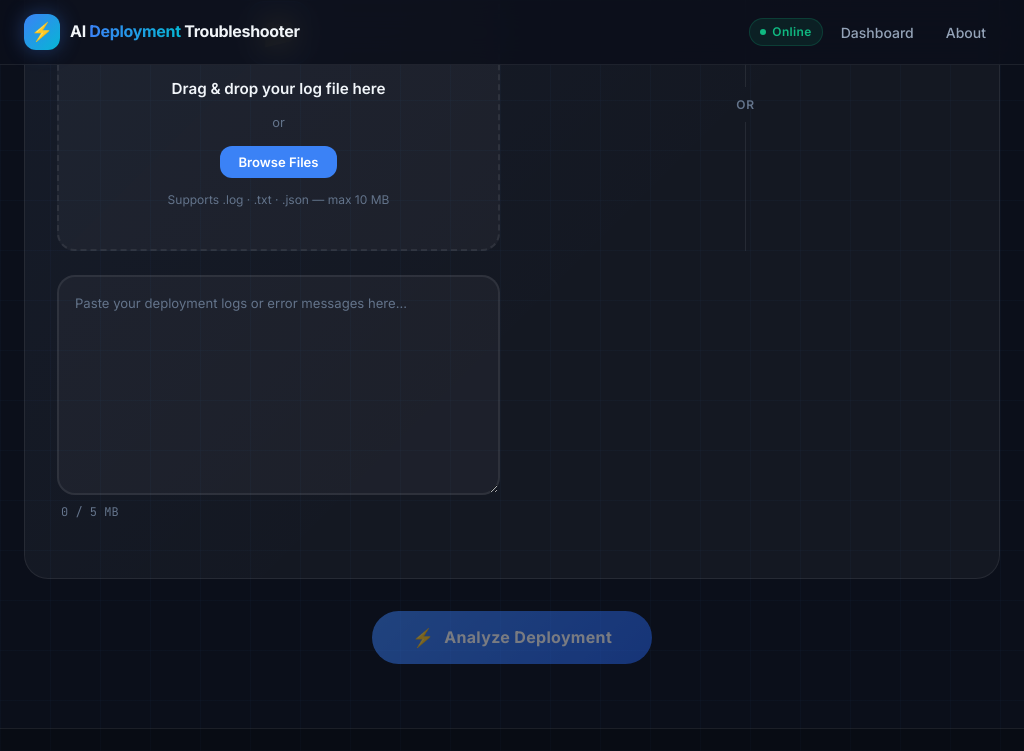
App - successful result › renders the results section heading
(page scrolled)
Type "test log" into the text box named "deployment log content" at coordinates (278, 385), box [57,275,500,495]
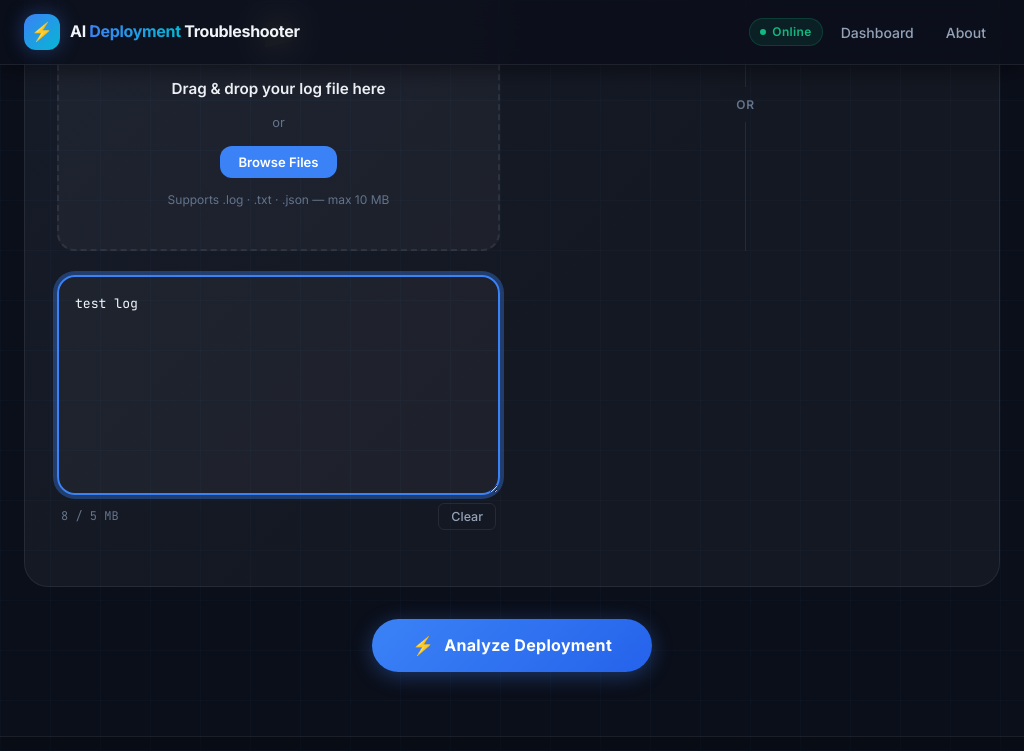
Click the button "⚡ Analyze Deployment" at coordinates (512, 645), box [372,619,652,672]
(page scrolled)
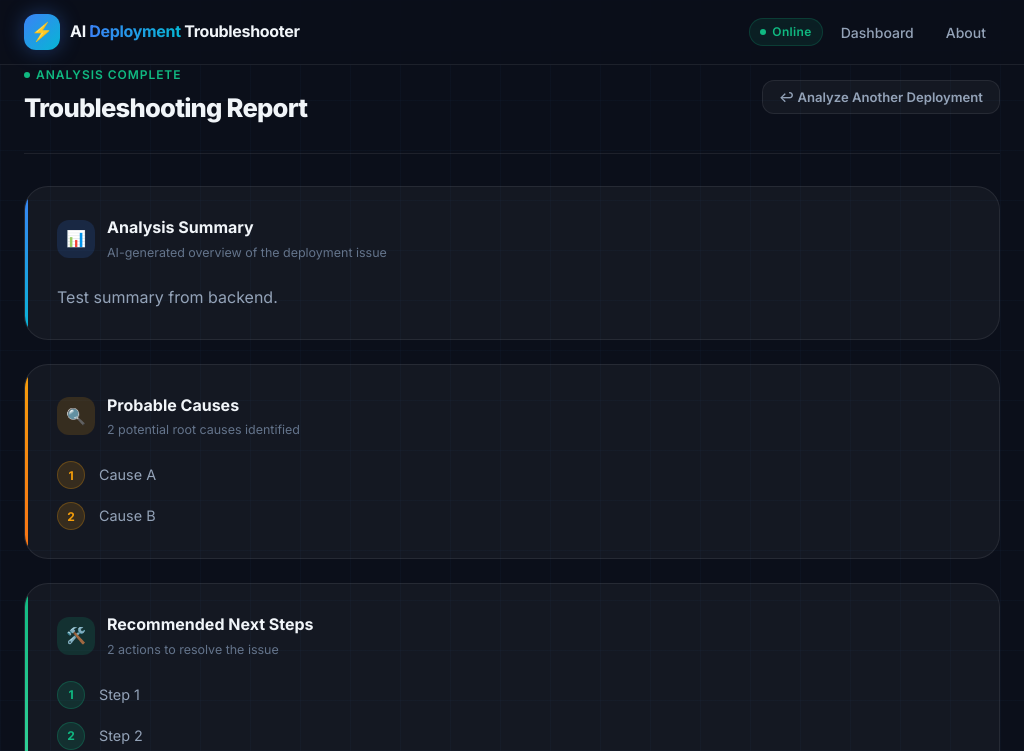
Now the heading "Troubleshooting Report" is shown, box [24,88,307,129]
